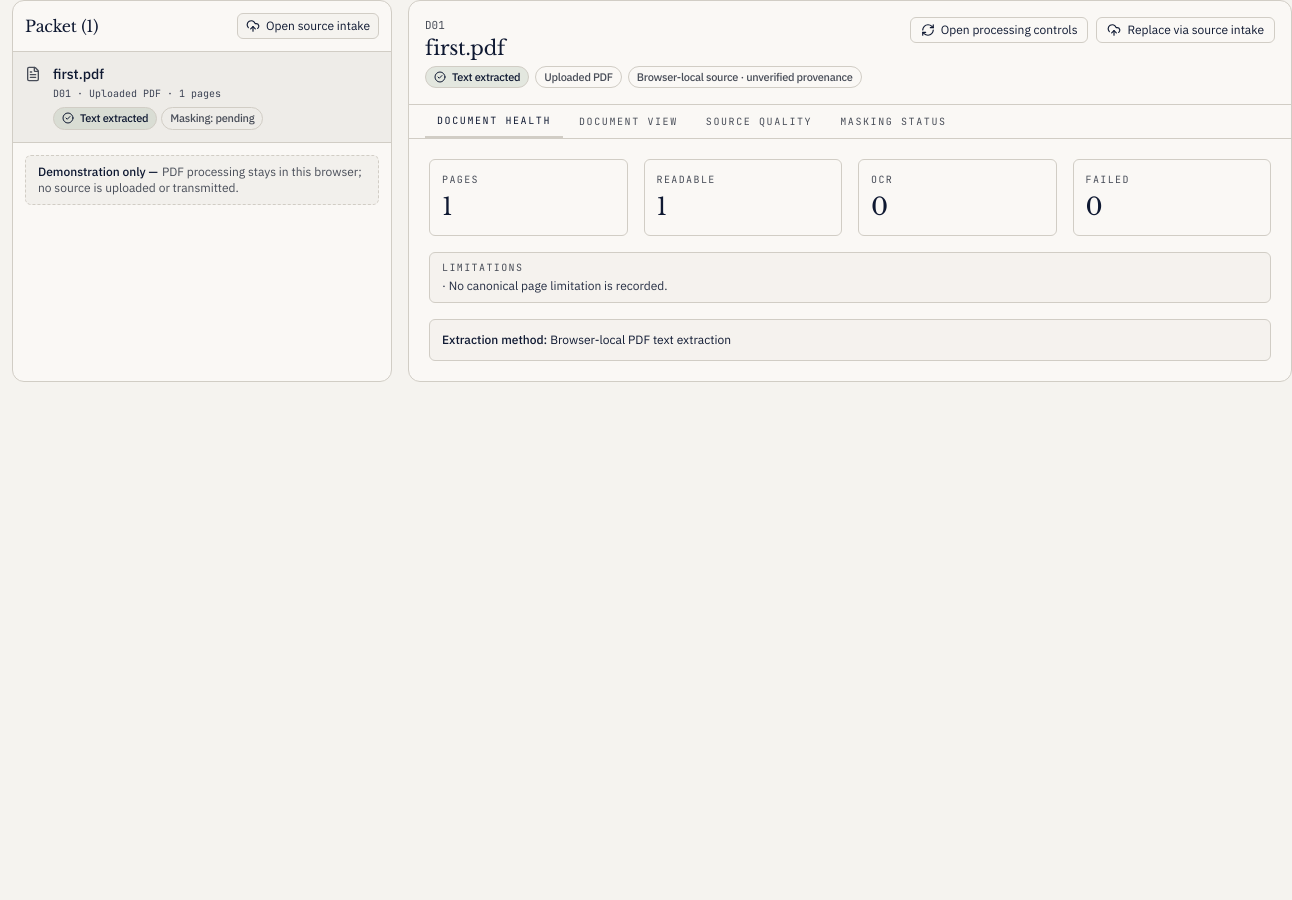
Scenario: DocumentCards dynamic Document View › requires confirmation, renders the matching local PDF, and provides a Safari fallback
Step 1. Click the tab "Document View" → [628, 122], box [567,105,690,138]
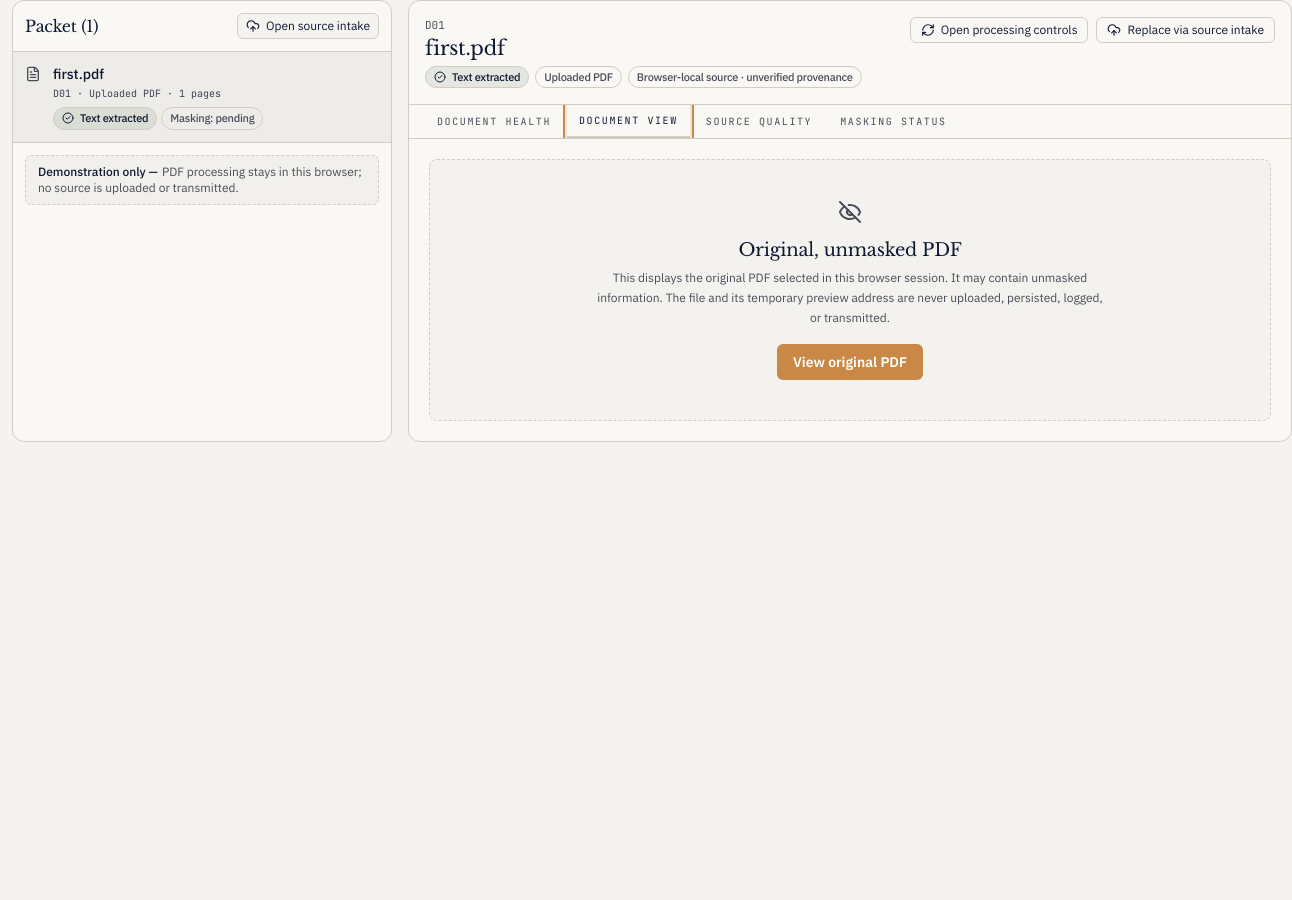
Expected: the text "displays the original PDF selected in this browser session" is shown, [597,270,1103,325]
Step 2. Click the button "View original PDF" → [850, 362], box [777,344,923,380]
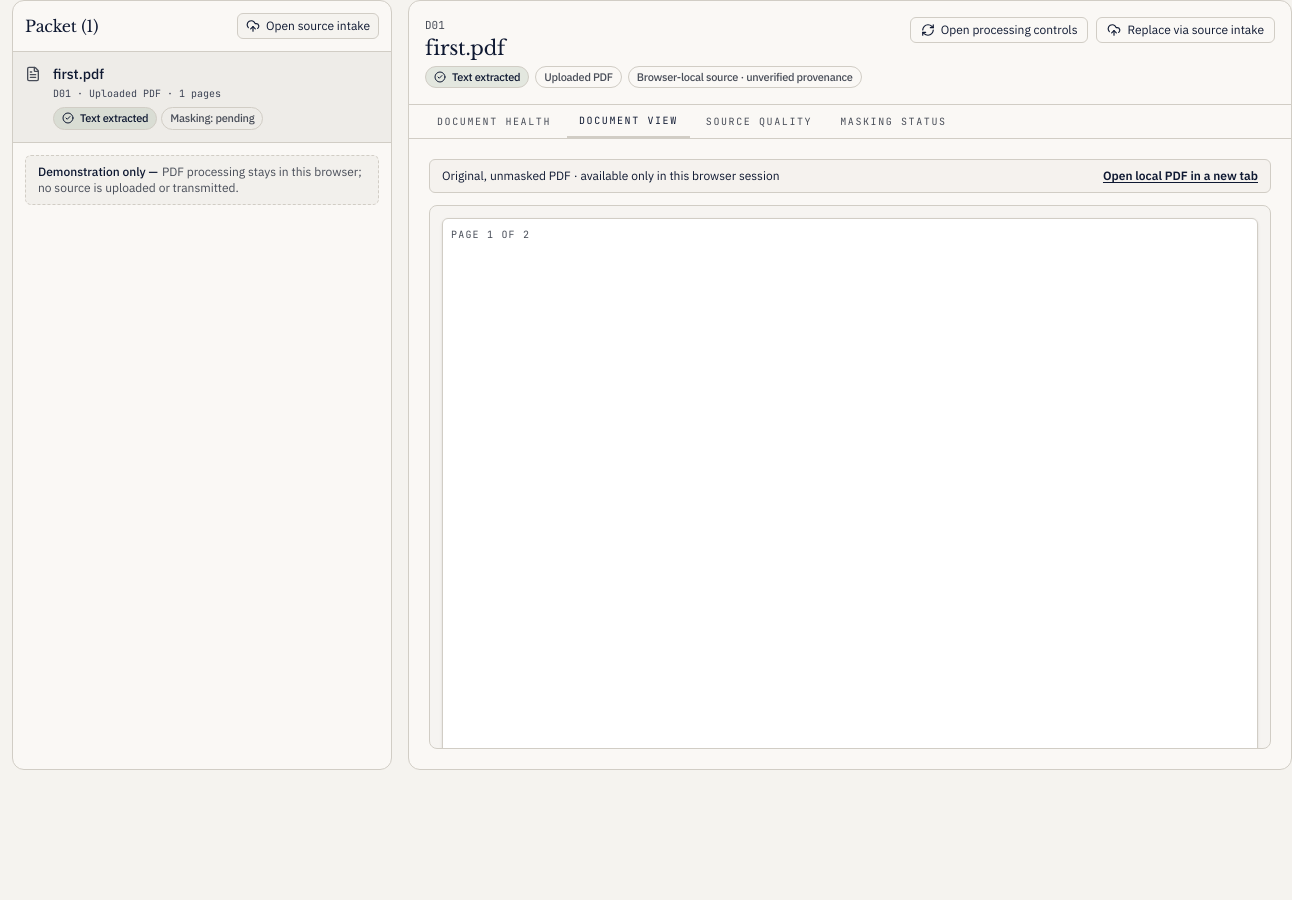
Expected: the text "Page 1 of 2" is shown, [451,228,530,241]
